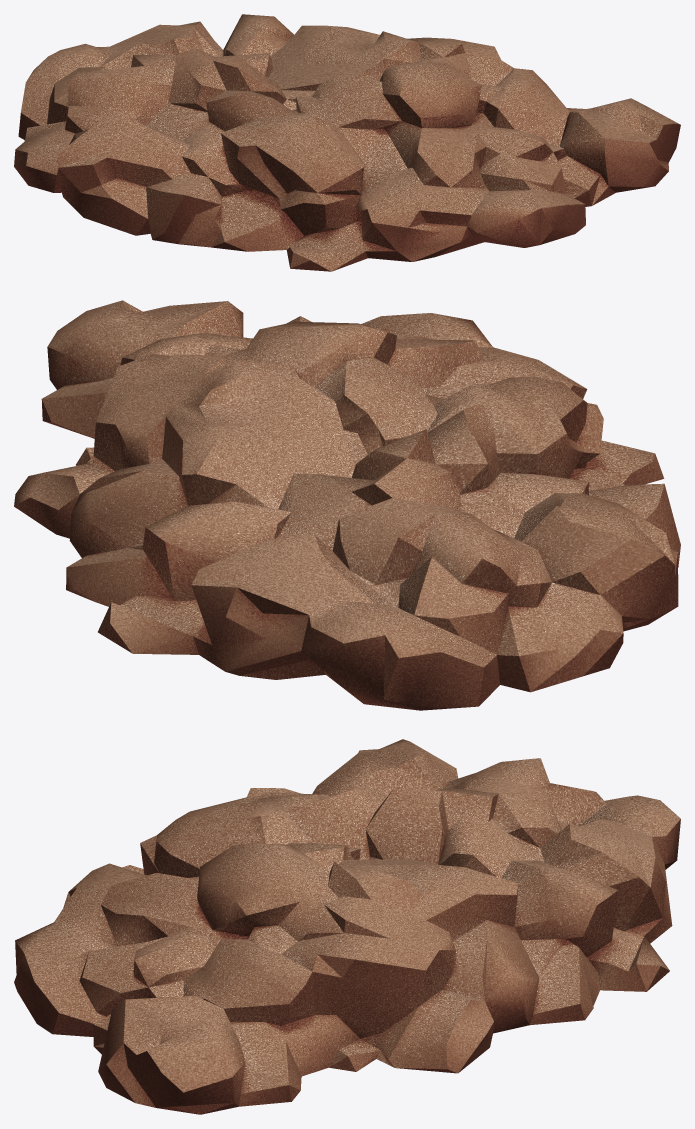
File: rocks-group-1a.fbx
3 renders of one model, top to bottom at view 1: azimuth 30°, elevation 25°; view 2: azimuth 150°, elevation 25°; view 3: azimuth 270°, elevation 25°, orthographic. The views are drawn at different scales.
Parts seen in each view (by area): view 1: Rocks_Group_01_02_LOD0; view 2: Rocks_Group_01_02_LOD0; view 3: Rocks_Group_01_02_LOD0.
Part boxes in pixels (left/top/right/bottom): Rocks_Group_01_02_LOD0: left=14, top=14, right=680, bottom=271; Rocks_Group_01_02_LOD0: left=14, top=300, right=680, bottom=710; Rocks_Group_01_02_LOD0: left=14, top=739, right=680, bottom=1114.
Bounding box in the file's own units: 317 × 62.97 × 283.
1 material, 1 textured.
